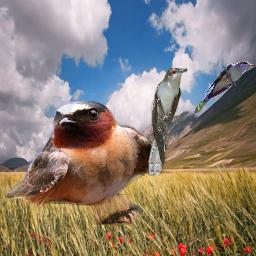Cuckoo: (147, 66, 188, 176), (194, 61, 255, 113)
Swallow: (6, 101, 154, 225)
